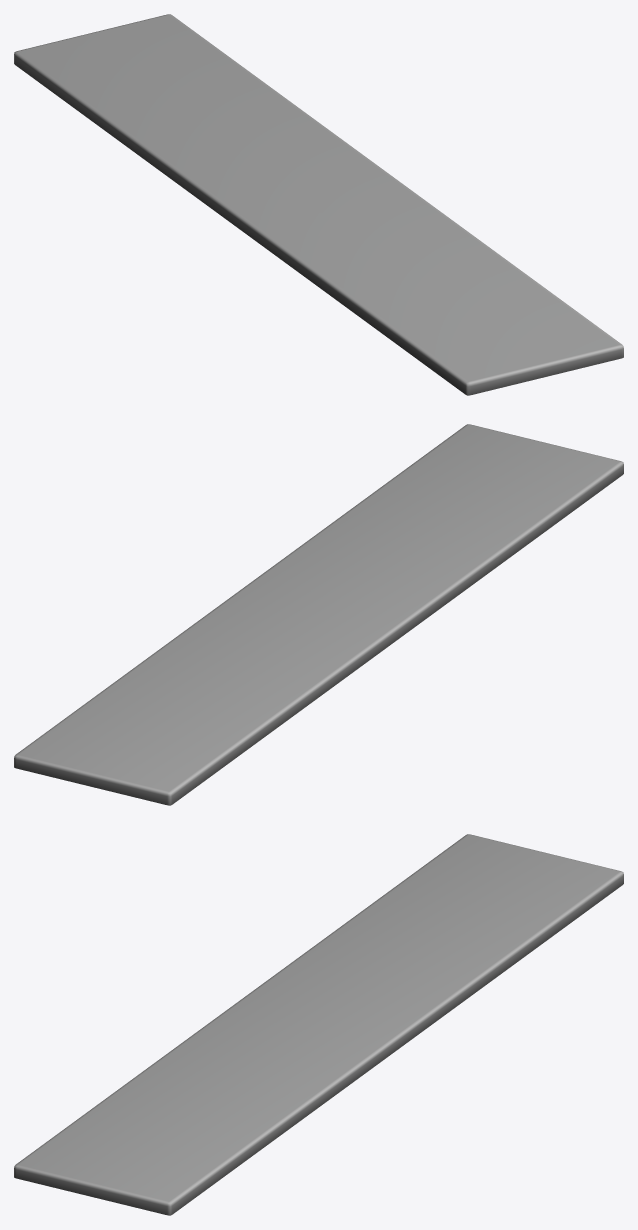
File: Big_Ground.fbx
The picture shows the model from 3 angles, top to bottom: view 1: azimuth 30°, elevation 25°; view 2: azimuth 150°, elevation 25°; view 3: azimuth 330°, elevation 25°; orthographic projection.
Parts seen in each view (by area): view 1: Plane.025; view 2: Plane.025; view 3: Plane.025.
Part boxes in pixels (box(x1,y1,x2,y2)): Plane.025: box(14, 14, 623, 395); Plane.025: box(14, 424, 623, 805); Plane.025: box(14, 834, 623, 1215).
Size of the model in its own units: 400 by 30 by 2000.
